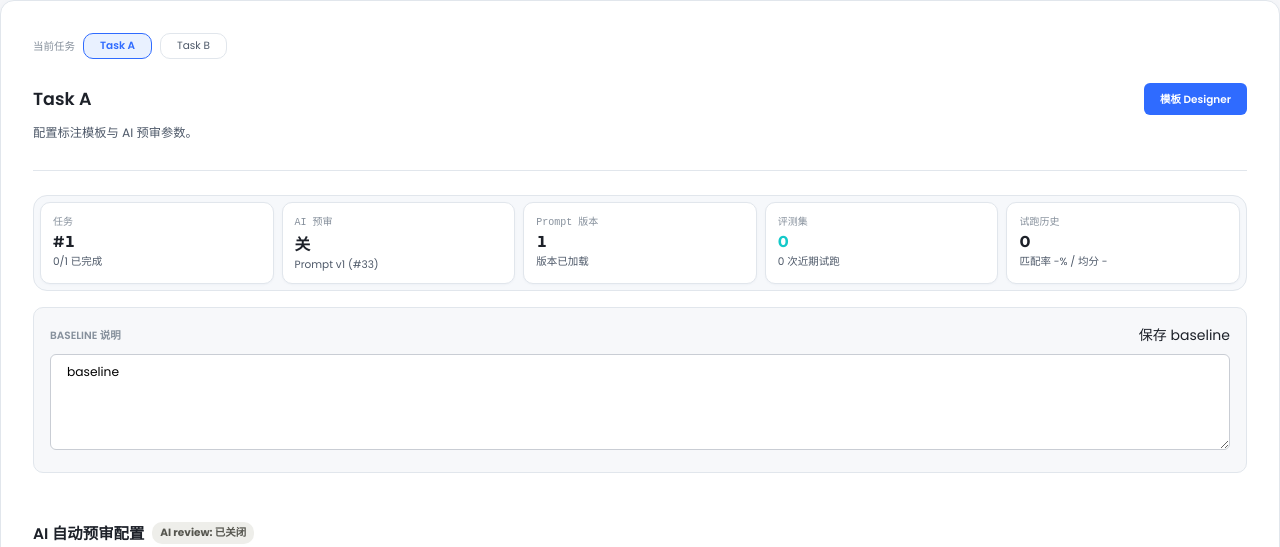
Scenario: OwnerDashboard AI prompt flow › resets prompt form when switching to a task without prompts
The width and height of the screenshot is (1280, 547).
Click the button "Task B".
click(194, 46)  # box [160,33,227,59]
(page scrolled)
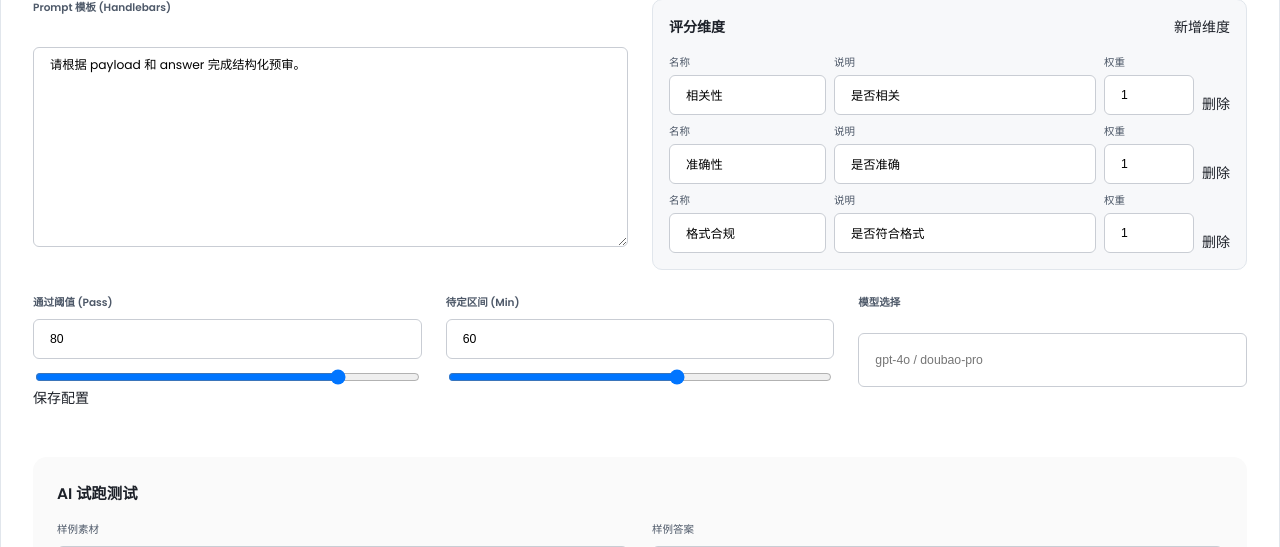
Expected: the text box showing "请根据 payload 和 answer 完成结构化预审。" is shown, [33,47,628,247]
Expected: the 3rd field showing "格式合规" is shown, [669,213,826,253]
Expected: the number field named "pass_threshold" holds "80", [33,319,422,359]
